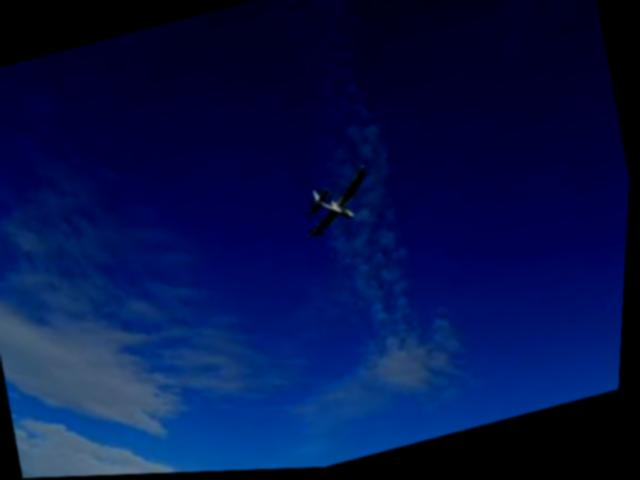uav: (289, 155, 389, 252)
